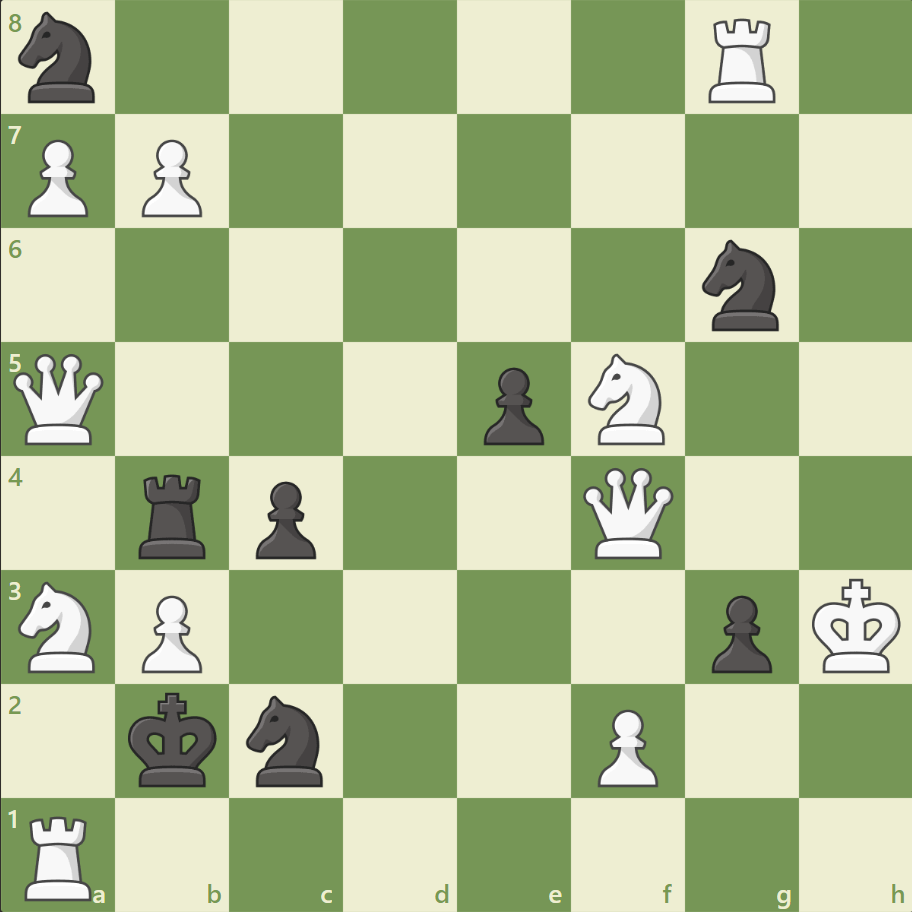K: (806, 571, 906, 679)
N: (579, 348, 676, 450), (11, 575, 108, 677)
P: (20, 132, 95, 223), (133, 132, 208, 223), (133, 586, 208, 677), (588, 700, 662, 791)
Q: (10, 349, 109, 449), (578, 463, 677, 562)
R: (19, 806, 102, 904), (700, 12, 783, 109)
k: (124, 685, 224, 793)
n: (11, 7, 108, 110), (692, 234, 789, 337), (238, 688, 335, 791)
p: (474, 359, 549, 450), (247, 473, 322, 564), (701, 586, 776, 677)
r: (133, 466, 215, 563)
